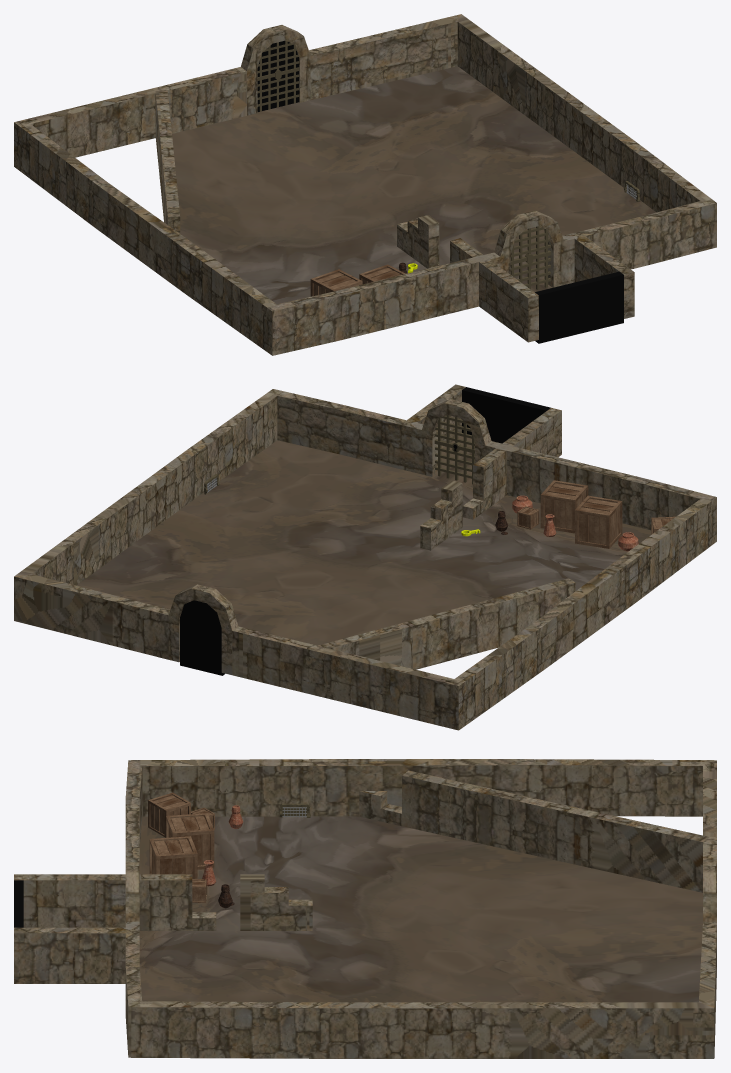
3 renders of one model, top to bottom at view 1: azimuth 30°, elevation 25°; view 2: azimuth 150°, elevation 25°; view 3: azimuth 270°, elevation 25°, orthographic. The views are drawn at different scales.
Visible parts, largest first — view 1: Walls, Plane, Cube.003, Exit Gate, Exit Gate.001, Entrance, Cube.014; view 2: Walls, Plane, Entrance, Cube.003, Cube.014, Exit Gate, Cube.004; view 3: Walls, Plane, Cube.004, Cube.014, Cube.002, Cube.003.
Part boxes in pixels (x1=…): Walls: x1=14, y1=14, x2=716, y2=355; Plane: x1=172, y1=66, x2=656, y2=304; Cube.003: x1=535, y1=271, x2=623, y2=343; Exit Gate: x1=511, y1=226, x2=551, y2=289; Exit Gate.001: x1=257, y1=41, x2=299, y2=111; Entrance: x1=257, y1=40, x2=298, y2=111; Cube.014: x1=310, y1=269, x2=362, y2=296; Walls: x1=14, y1=384, x2=716, y2=730; Plane: x1=77, y1=436, x2=651, y2=645; Entrance: x1=180, y1=600, x2=224, y2=675; Cube.003: x1=462, y1=387, x2=550, y2=443; Cube.014: x1=575, y1=495, x2=622, y2=548; Exit Gate: x1=434, y1=415, x2=474, y2=484; Cube.004: x1=540, y1=480, x2=588, y2=533; Walls: x1=14, y1=759, x2=716, y2=1058; Plane: x1=139, y1=816, x2=702, y2=1002; Cube.004: x1=149, y1=836, x2=197, y2=878; Cube.014: x1=166, y1=813, x2=214, y2=869; Cube.002: x1=148, y1=792, x2=190, y2=837; Cube.003: x1=14, y1=880, x2=23, y2=927.
Size of what is drawn, in the model's own units: 21.09 by 3.61 by 25.15.
9 materials, 6 textured.
